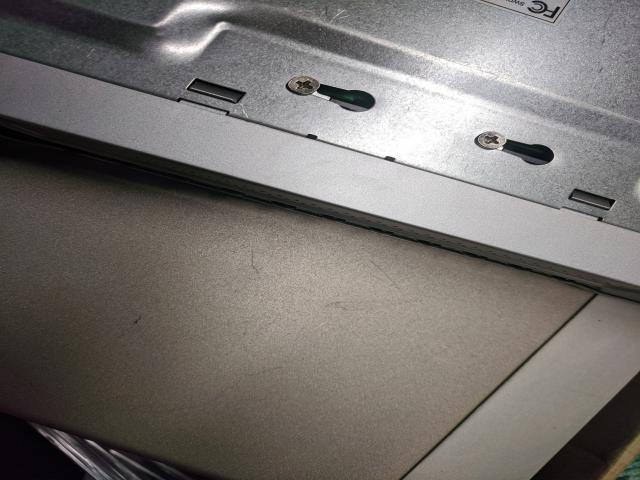CRS: (284, 74, 322, 96), (474, 130, 507, 149)
